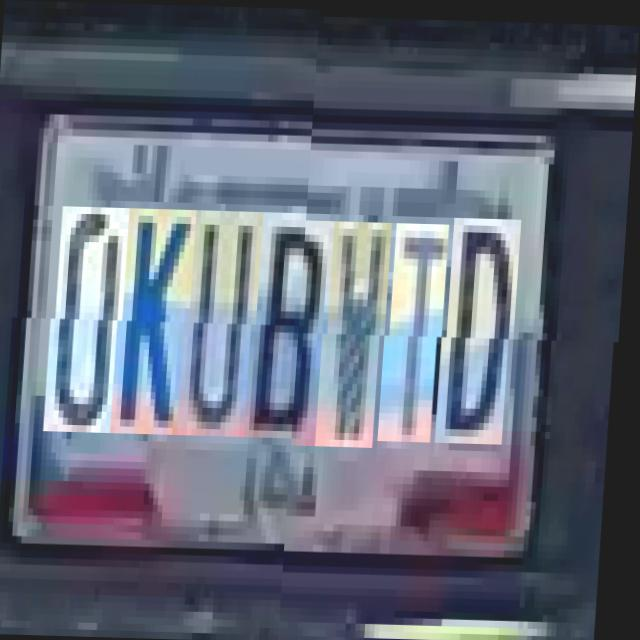0: (54, 212, 132, 440)
B: (255, 218, 338, 444)
D: (446, 214, 524, 442)
K: (120, 214, 199, 441)
T: (388, 220, 452, 440)
U: (187, 215, 266, 442)
W: (326, 220, 395, 446)
